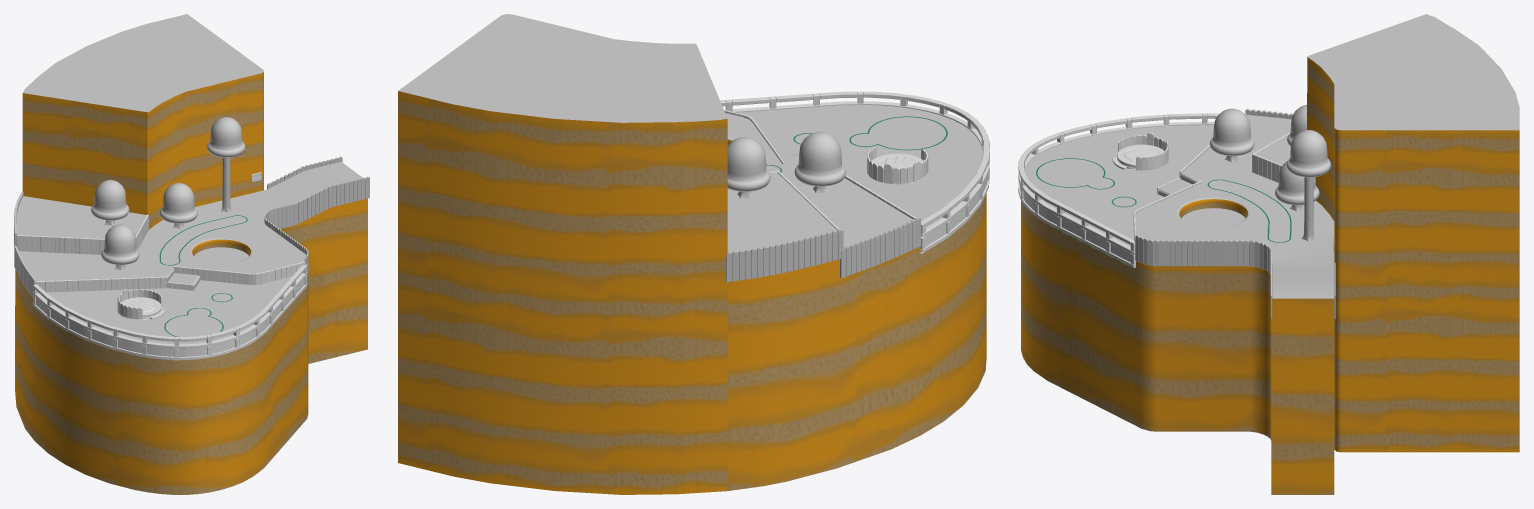
Rendered from Blockout1.fbx.
3 renders of one model, left to right at view 1: azimuth 30°, elevation 25°; view 2: azimuth 150°, elevation 25°; view 3: azimuth 270°, elevation 25°, orthographic. The views are drawn at different scales.
Parts seen in each view (by area): view 1: Circle.004, Circle.020, Cube, Circle.018, Cube.002, Cube.004, Cube.001, Circle, Circle.002, Circle.007, Circle.005, Circle.012 (+8 smaller); view 2: Circle.004, Circle.020, Cube, Circle.009, Circle.018, Circle.010, Circle.007, Circle, Circle.029; view 3: Circle.004, Circle.020, Cube, Circle.012, Circle.018, Circle.002, Circle.007, Circle.005, Circle.029, Circle.019, Circle.021, Circle.003.
Boxes of the visible parts, left/top/right/bottom form: Circle.004: left=15, top=72, right=367, bottom=494; Circle.020: left=16, top=14, right=362, bottom=344; Cube: left=33, top=264, right=307, bottom=360; Circle.018: left=23, top=83, right=246, bottom=336; Cube.002: left=34, top=276, right=166, bottom=292; Cube.004: left=16, top=235, right=104, bottom=254; Cube.001: left=173, top=261, right=305, bottom=284; Circle: left=91, top=179, right=129, bottom=220; Circle.002: left=207, top=117, right=245, bottom=157; Circle.007: left=101, top=224, right=139, bottom=264; Circle.005: left=159, top=183, right=197, bottom=223; Circle.012: left=264, top=203, right=308, bottom=276; Circle.004: left=398, top=91, right=986, bottom=494; Circle.020: left=398, top=14, right=982, bottom=253; Cube: left=720, top=91, right=989, bottom=253; Circle.009: left=726, top=229, right=843, bottom=282; Circle.018: left=681, top=100, right=946, bottom=171; Circle.010: left=840, top=217, right=920, bottom=278; Circle.007: left=794, top=131, right=846, bottom=186; Circle: left=727, top=136, right=770, bottom=191; Circle.029: left=867, top=147, right=928, bottom=183; Circle.004: left=1021, top=57, right=1519, bottom=494; Circle.020: left=1024, top=14, right=1519, bottom=298; Cube: left=1018, top=113, right=1219, bottom=267; Circle.012: left=1135, top=235, right=1271, bottom=274; Circle.018: left=1037, top=16, right=1442, bottom=242; Circle.002: left=1286, top=130, right=1331, bottom=177; Circle.007: left=1209, top=108, right=1254, bottom=155; Circle.005: left=1275, top=161, right=1319, bottom=205; Circle.029: left=1118, top=132, right=1168, bottom=170; Circle.019: left=1181, top=208, right=1245, bottom=228; Circle.021: left=1036, top=158, right=1291, bottom=242; Circle.003: left=1301, top=177, right=1315, bottom=241.
Size of the model in its own units: 6592 by 4967 by 7001.
